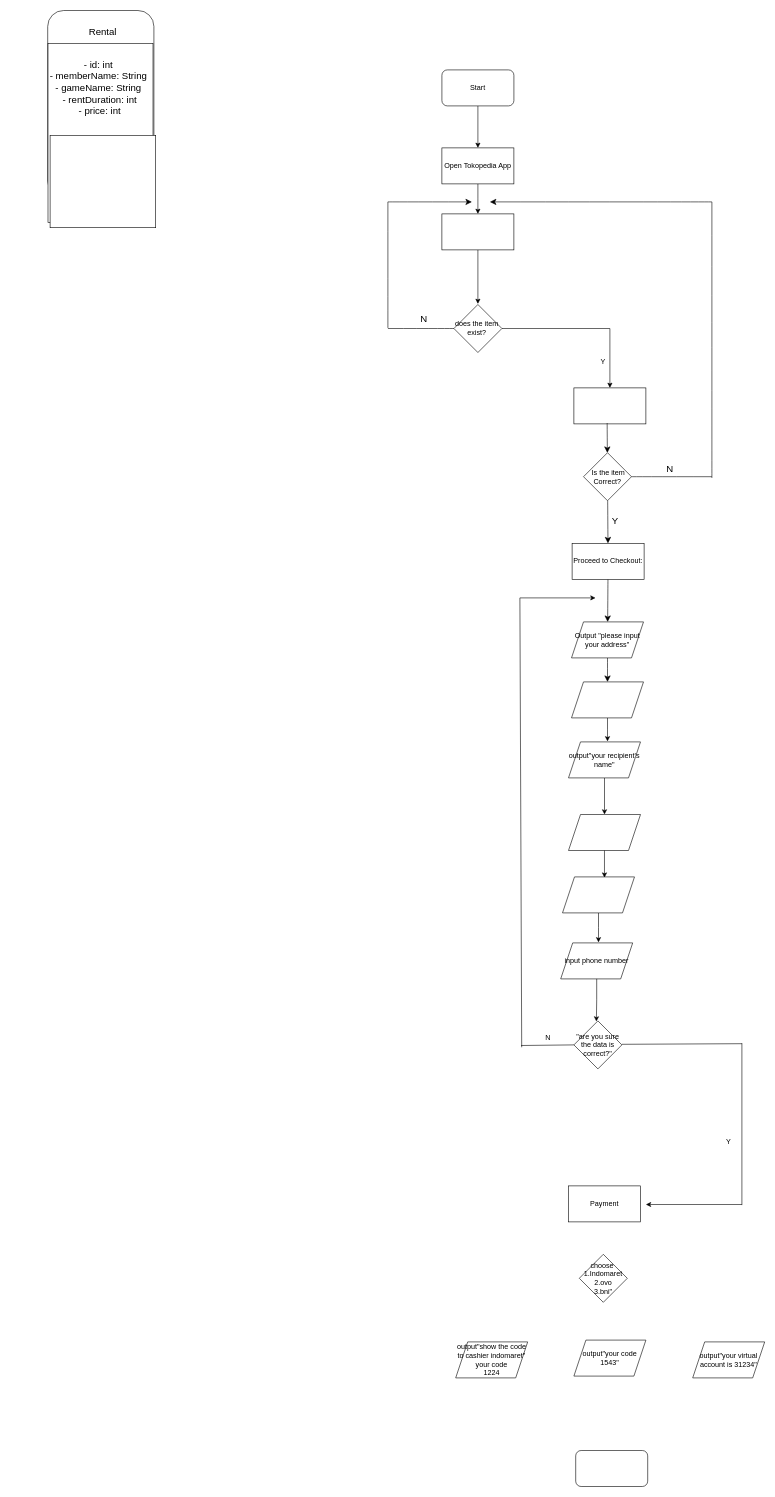
The diagram is 775 pixels wide and 1497 high, and some of its shapes have lost their labels. Here are the shapes that lost their labels. From the top down, the centre of each, then its label:
point (103, 181): + AmountPay(): int + displayData(): void
point (477, 231): search item
point (609, 405): Add to Cart
point (607, 699): input alamat
point (604, 832): input your name
point (598, 894): ouput"your phone number"
point (611, 1468): End
